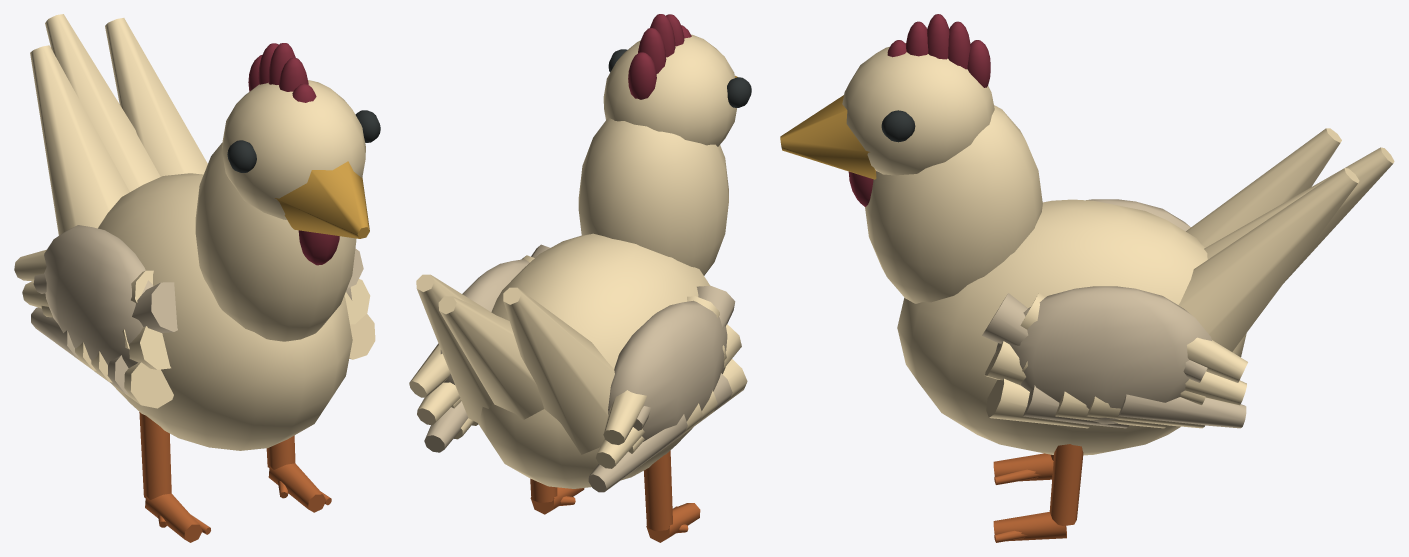
File: poule.glb
The picture shows the model from 3 angles, left to right: view 1: azimuth 30°, elevation 25°; view 2: azimuth 150°, elevation 25°; view 3: azimuth 270°, elevation 25°; orthographic projection. The views are drawn at different scales.
Visible parts, largest first — view 1: poule_Maillage; view 2: poule_Maillage; view 3: poule_Maillage.
Boxes of the visible parts, bbox=[...] form: poule_Maillage: bbox=[14, 14, 380, 542]; poule_Maillage: bbox=[409, 14, 751, 542]; poule_Maillage: bbox=[780, 14, 1394, 542].
Bounding box in the file's own units: 0.473 × 0.9224 × 1.03.
